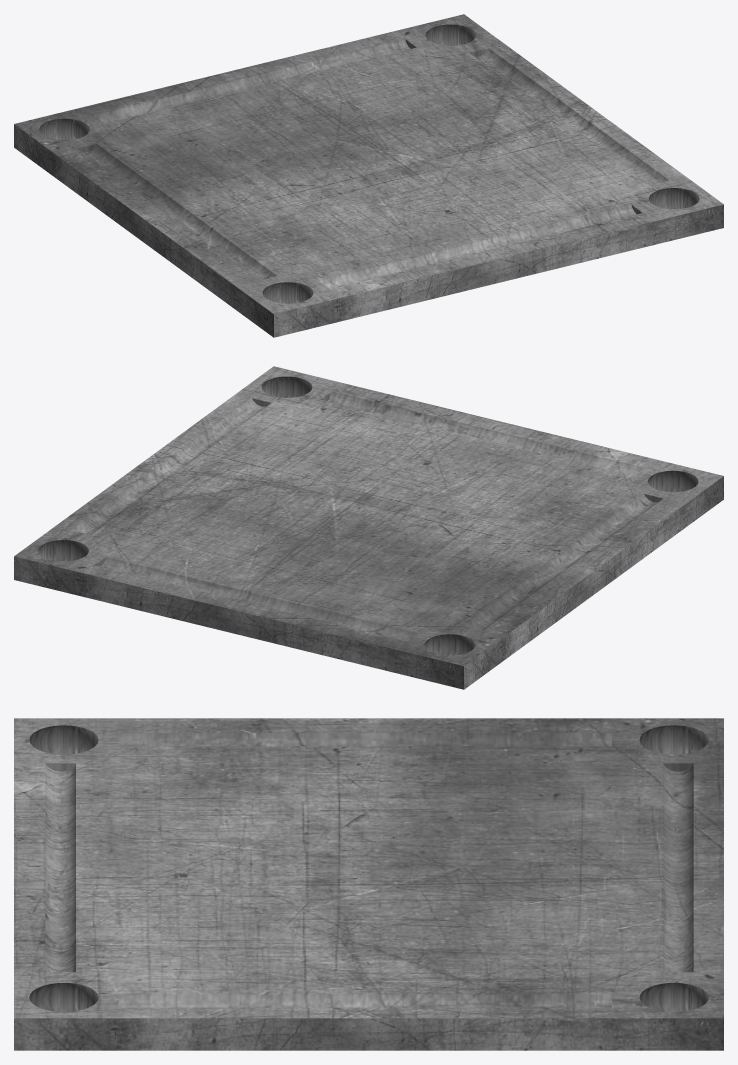
File: floatboard.FBX
3 views of the same model, one above another, from view 1: azimuth 30°, elevation 25°; view 2: azimuth 150°, elevation 25°; view 3: azimuth 270°, elevation 25° (orthographic). The views are drawn at different scales.
Visible parts, largest first — view 1: floatboard; view 2: floatboard; view 3: floatboard.
Part boxes in pixels (left/top/right/bottom): floatboard: left=14, top=14, right=723, bottom=337; floatboard: left=14, top=366, right=723, bottom=689; floatboard: left=14, top=718, right=723, bottom=1050.
Size of the model in its own units: 1000 by 50 by 1000.
Materials: 1 (1 with a texture image).
